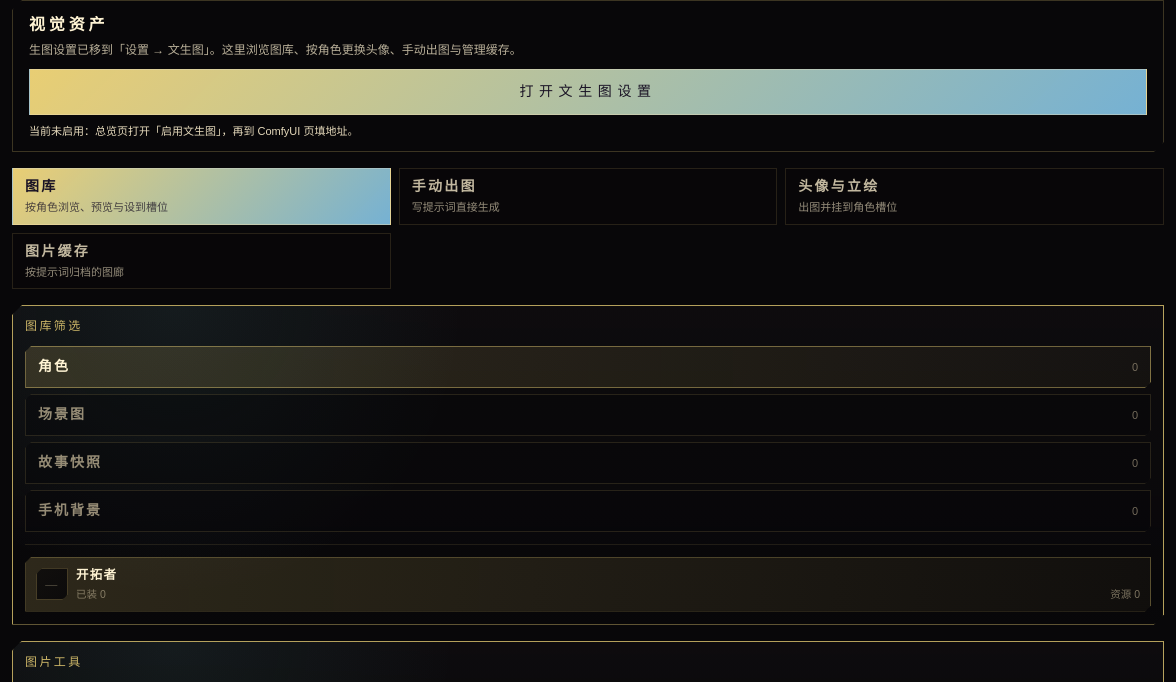
Test: 图片缓存页 › 「清空缓存」后页面与库都为空白
What coordinates should you click on to do the following:
click the button "图片缓存 按提示词归档的图廊"
I would click on:
 (57, 251)
Its box is [12,232,391,289].
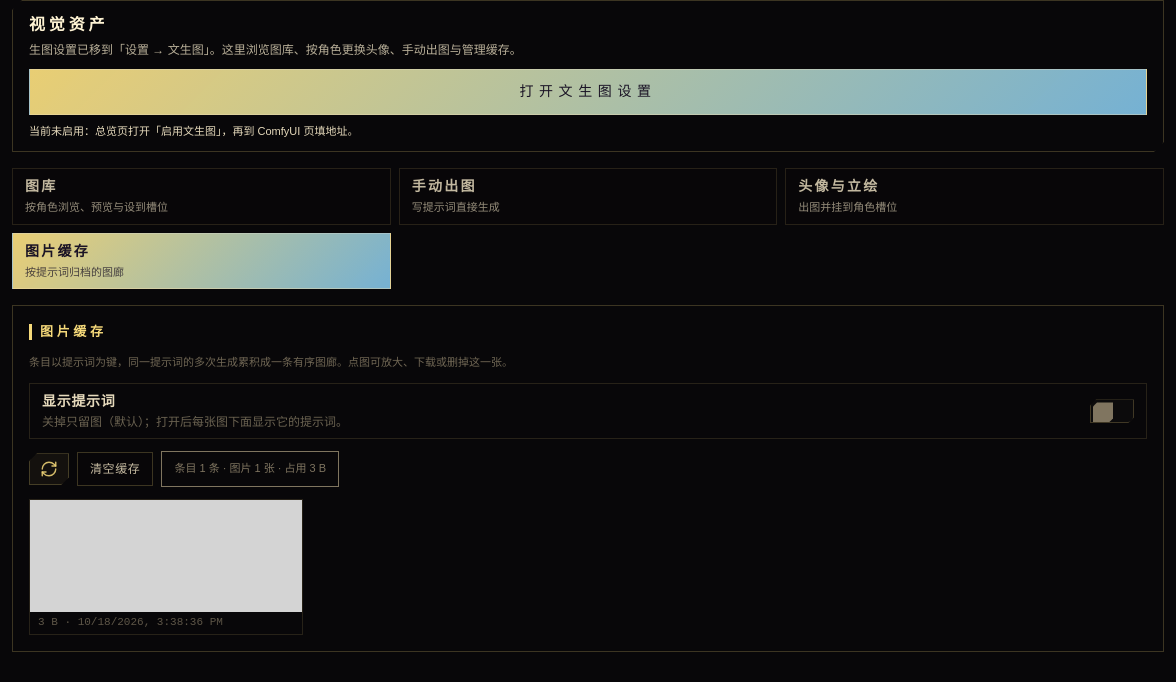
What coordinates should you click on to do the following:
click the button "清空缓存"
I would click on:
 (115, 469)
Its box is [77,452,153,486].
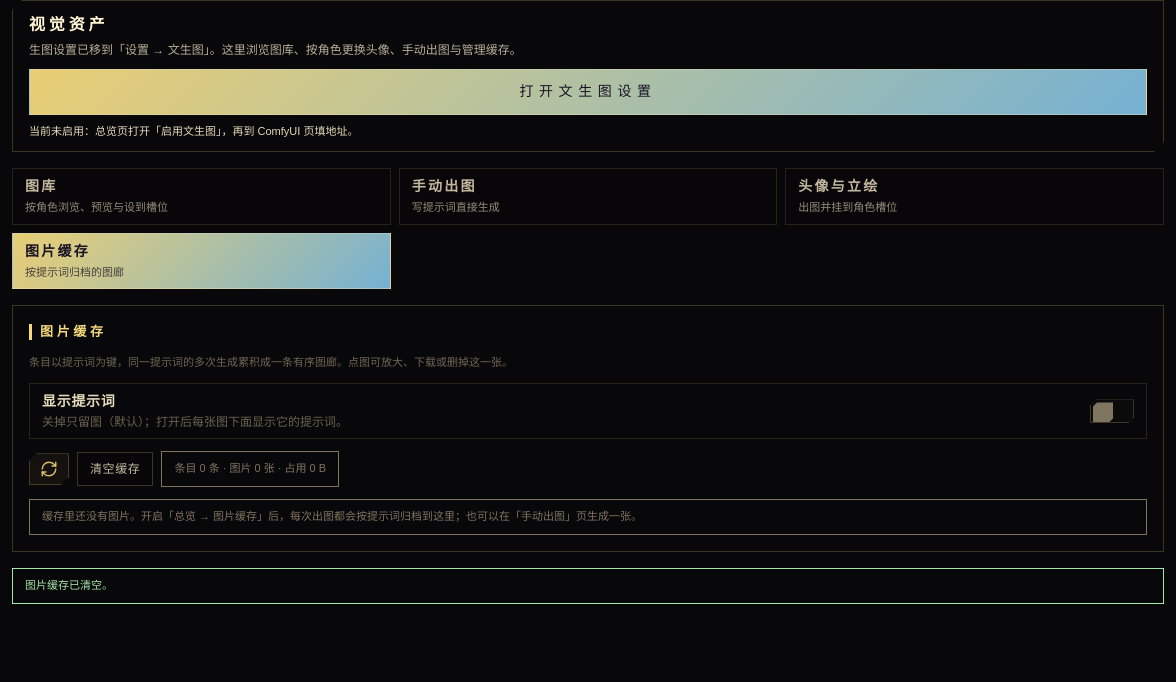
Check: the text "缓存里还没有图片。开启「总览 → 图片缓存」后，每次出图都会按提示词归档到这里；也可以在「手动出图」页生成一张。" is shown, box [29,499,1147,535]
